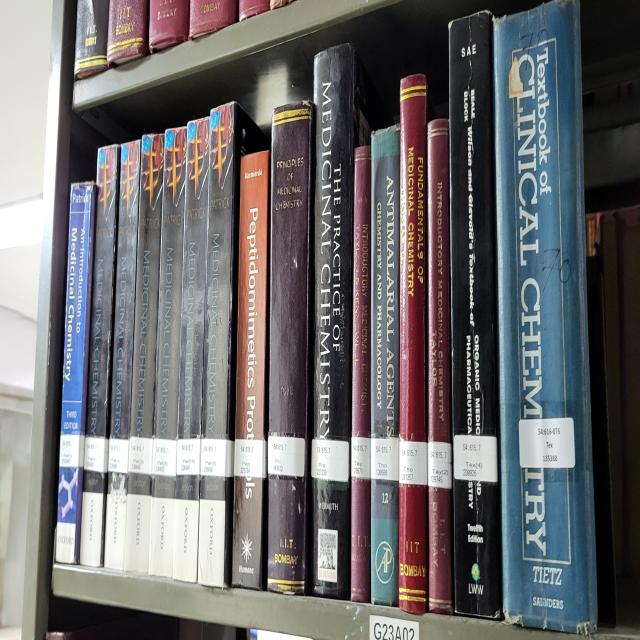Book: (198, 103, 268, 587), (311, 43, 362, 598), (268, 103, 312, 595), (172, 119, 210, 582), (125, 133, 164, 574), (80, 143, 120, 565), (232, 149, 270, 590), (149, 127, 186, 576), (399, 76, 429, 614), (55, 181, 96, 563), (104, 141, 140, 571), (428, 119, 452, 614), (350, 146, 371, 603)
Label: (519, 417, 575, 468), (454, 436, 498, 482), (311, 438, 349, 482), (268, 436, 305, 476), (234, 438, 268, 479), (399, 438, 428, 484), (200, 438, 235, 476), (371, 438, 399, 482), (428, 441, 452, 490), (176, 438, 201, 476), (84, 436, 109, 473), (152, 438, 176, 476), (59, 433, 85, 468), (129, 436, 152, 473), (351, 436, 370, 479), (109, 438, 129, 473)
